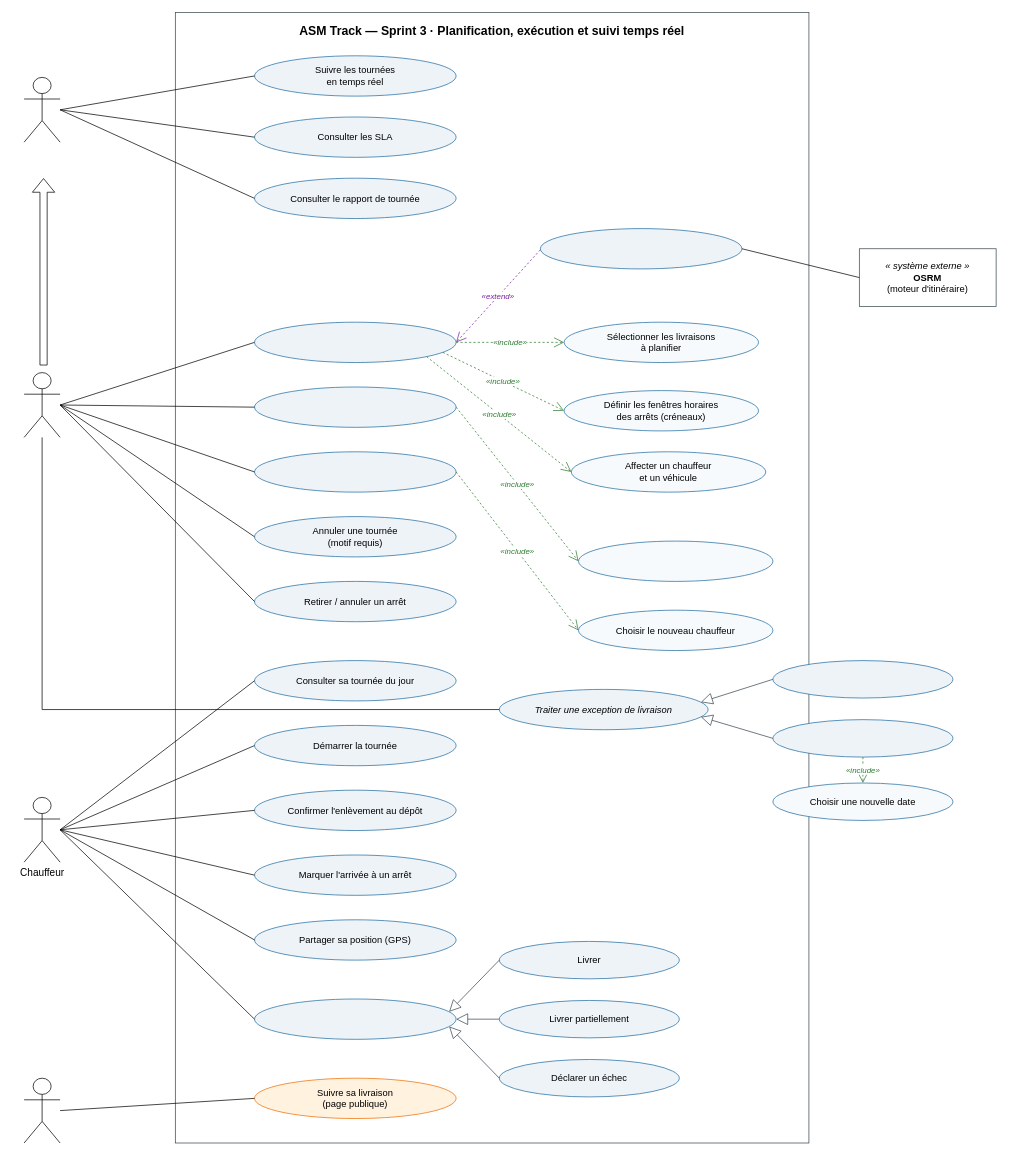
Some shapes in this 1009 by 1173 pixel diagram are drawn without their labels. Each missing label, with the centre of its shape:
Clôturer un arrêt: the point at 355,1018
Construire une tournée: the point at 355,342
Destinataire: the point at 41,1110
Dispatcheur: the point at 41,404
Optimiser la tournée: the point at 641,248
Replanifier une livraison: the point at 862,738
Responsable (supervision): the point at 41,109
Réaffecter une livraison: the point at 862,679
Réassigner une tournée: the point at 355,471
Valider une tournée: the point at 355,406
Vérifier la précédence enlèvement → livraison: the point at 675,560
